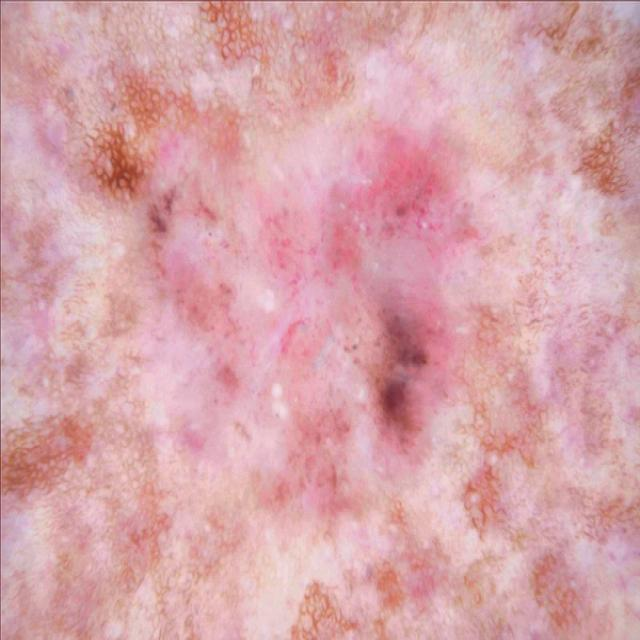Basal-Cell-Carcinoma-BCC-: (16, 28, 612, 599)
